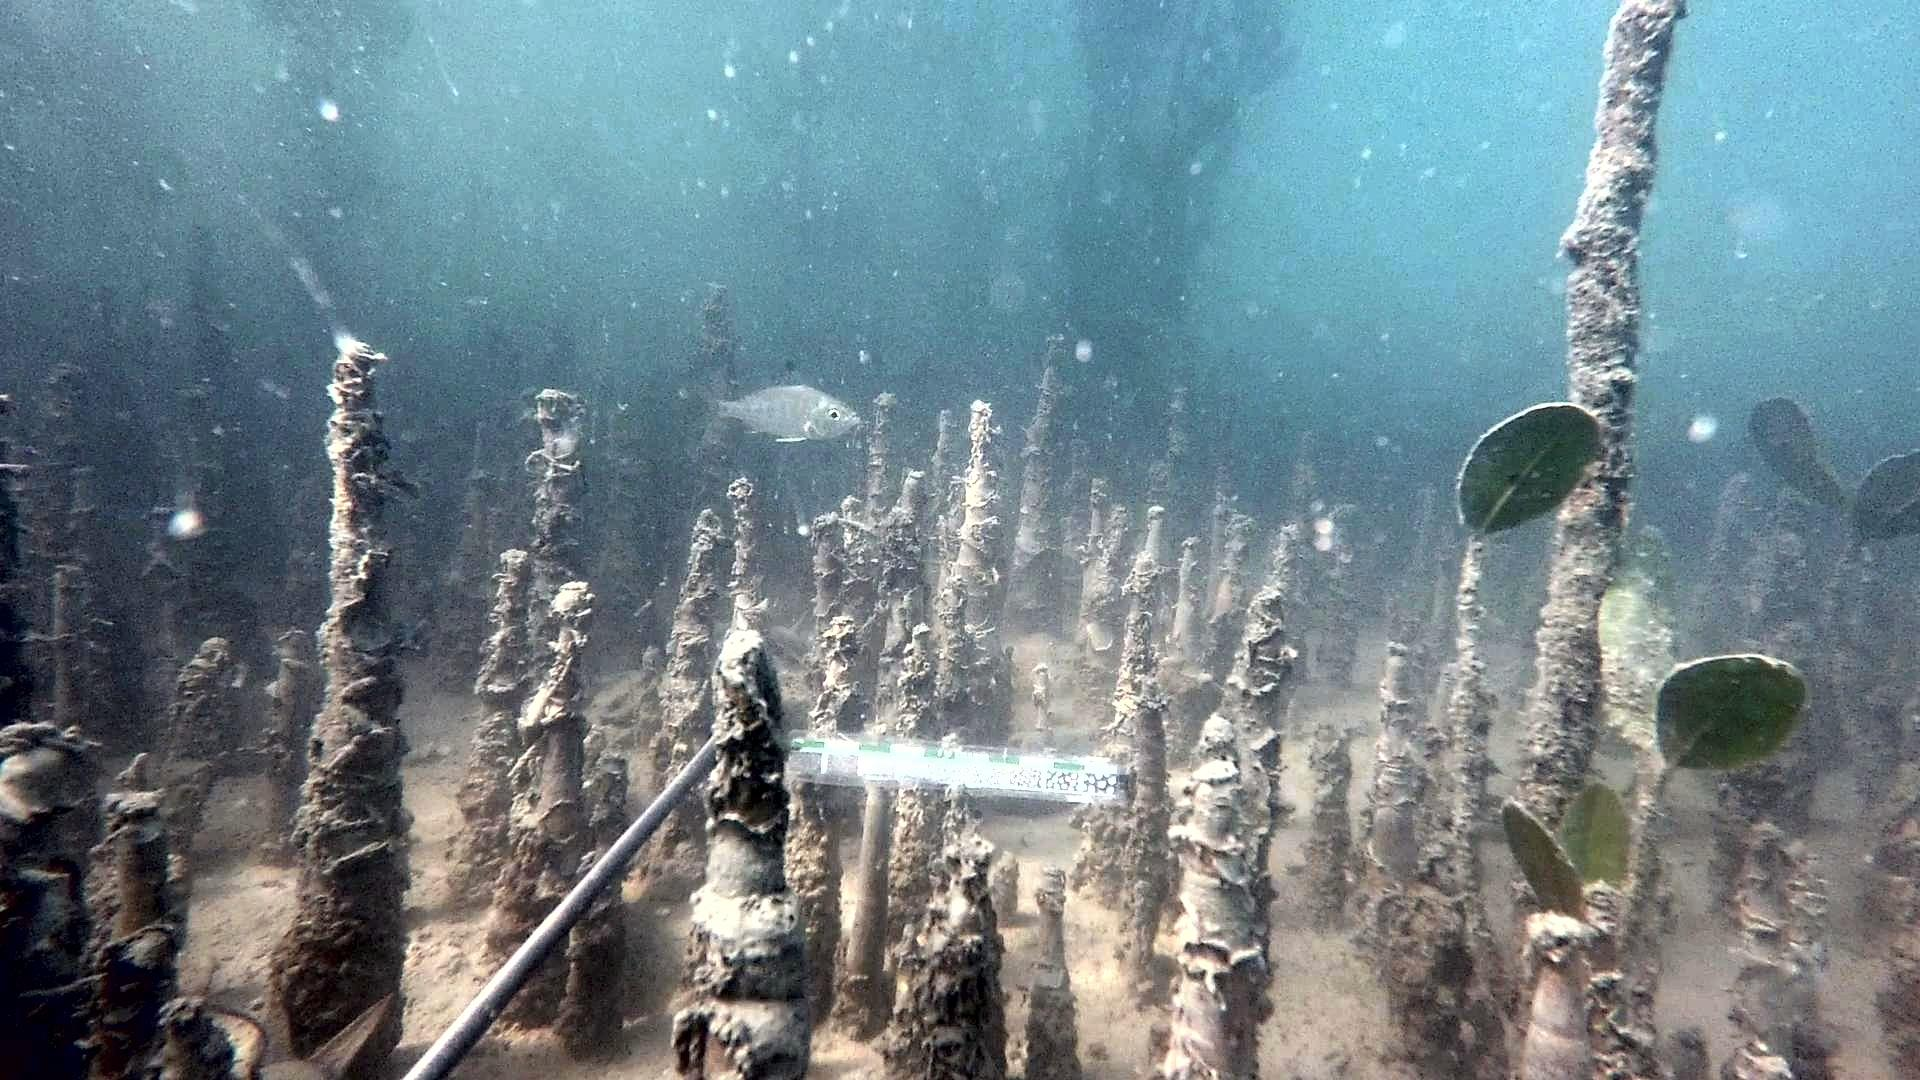gerres: (691, 359, 862, 444)
